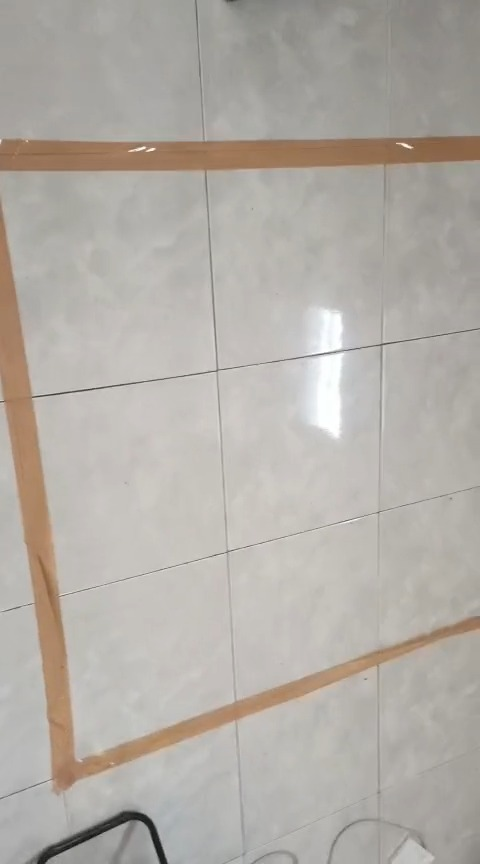floor marking: (0, 204, 479, 790), (0, 136, 479, 173)
